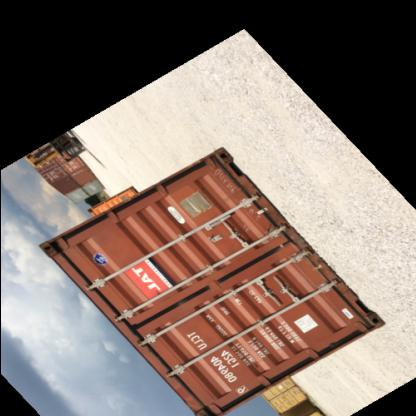Damage: (271, 230, 308, 256)
